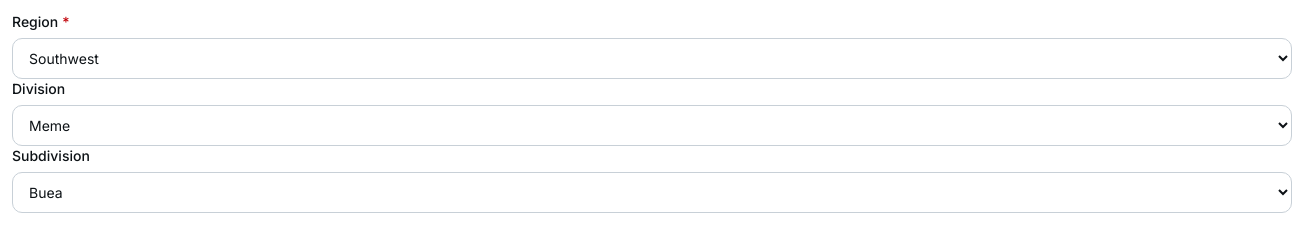
Test case: GeographyFields › clears the children when the region changes
Select "Littoral" in the dropdown labelled "Region*": (652, 58) [12,38,1292,79]
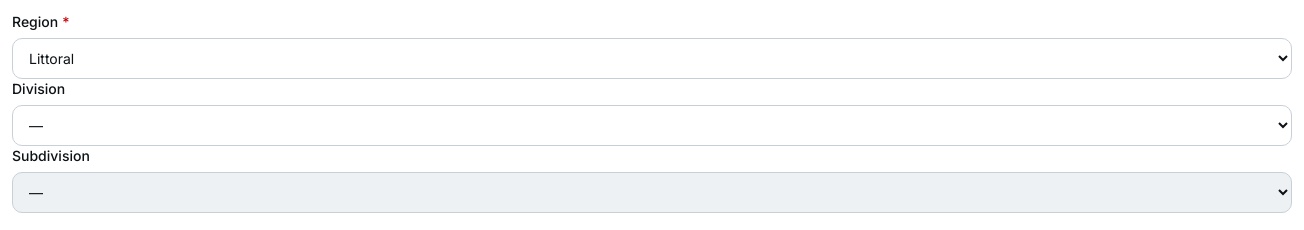
Expected: the option "Buea" is not shown
Result: the dropdown labelled "Division" shows "—" at [12,105,1292,146]
Result: the dropdown labelled "Subdivision" shows "—" at [12,172,1292,213]
